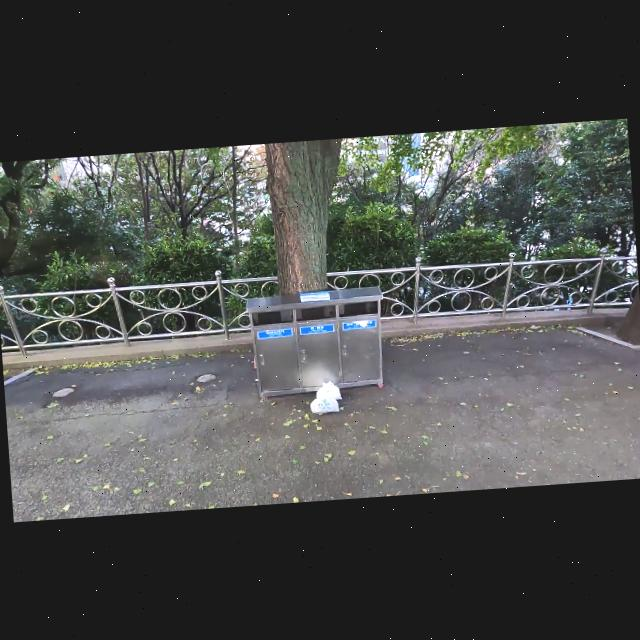trash: (312, 380, 346, 405), (309, 398, 343, 416)
